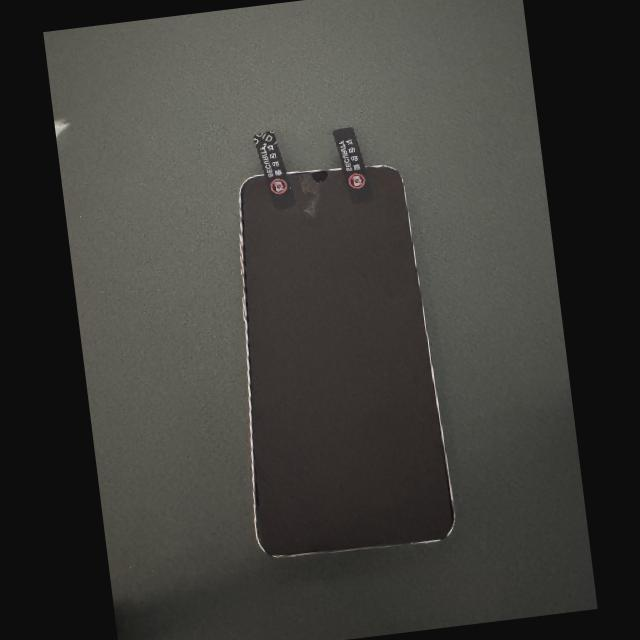lens: (318, 179, 323, 183)
phone: (239, 164, 454, 558)
sticker: (253, 131, 295, 208), (332, 127, 373, 203)
